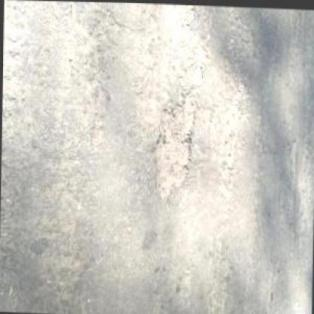Hueco: (149, 88, 198, 200)
